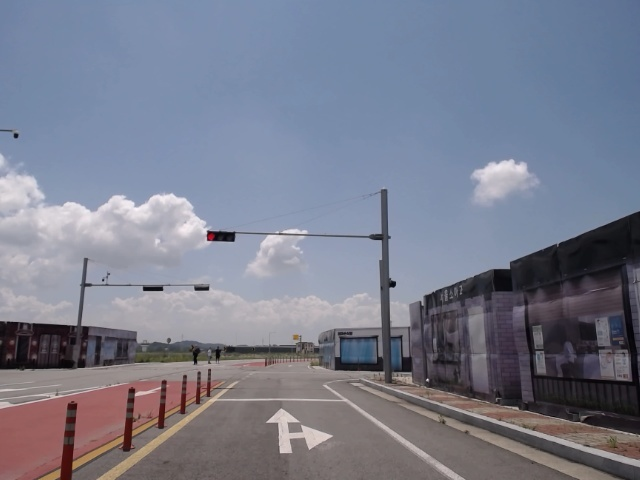red_3: (206, 231, 237, 243)
